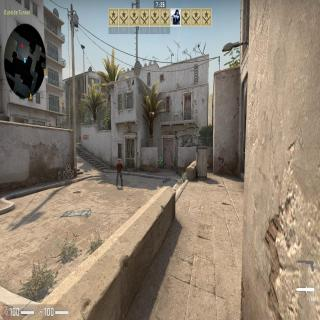T-Body: (115, 158, 124, 186)
T-Head: (118, 158, 120, 162)
